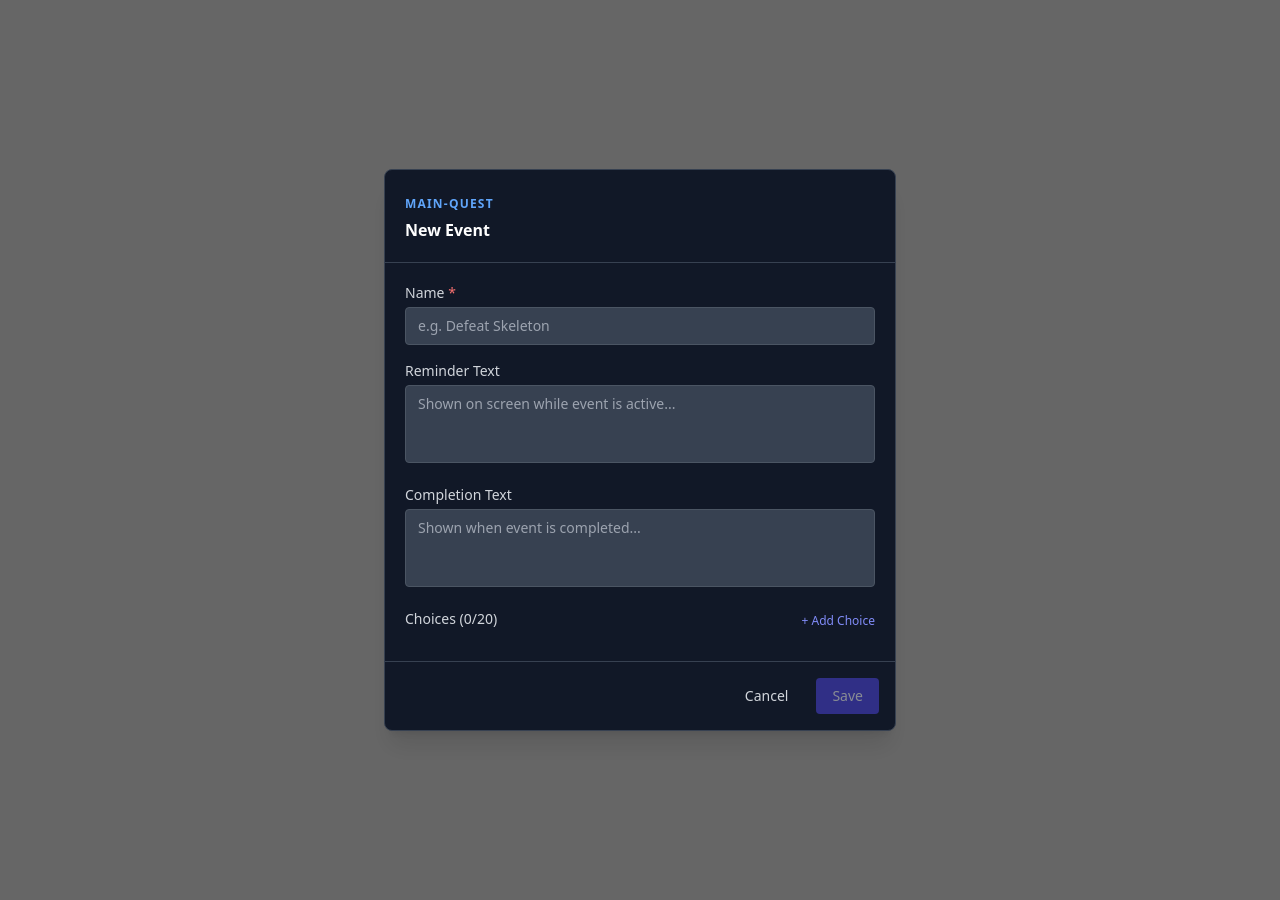
Test: EventDetailPopup › Save button is enabled when name is filled
This screenshot has width=1280, height=900.
In the field labelled "Name *": (640, 326) [405,307,875,345], type "Defeat Skeleton"
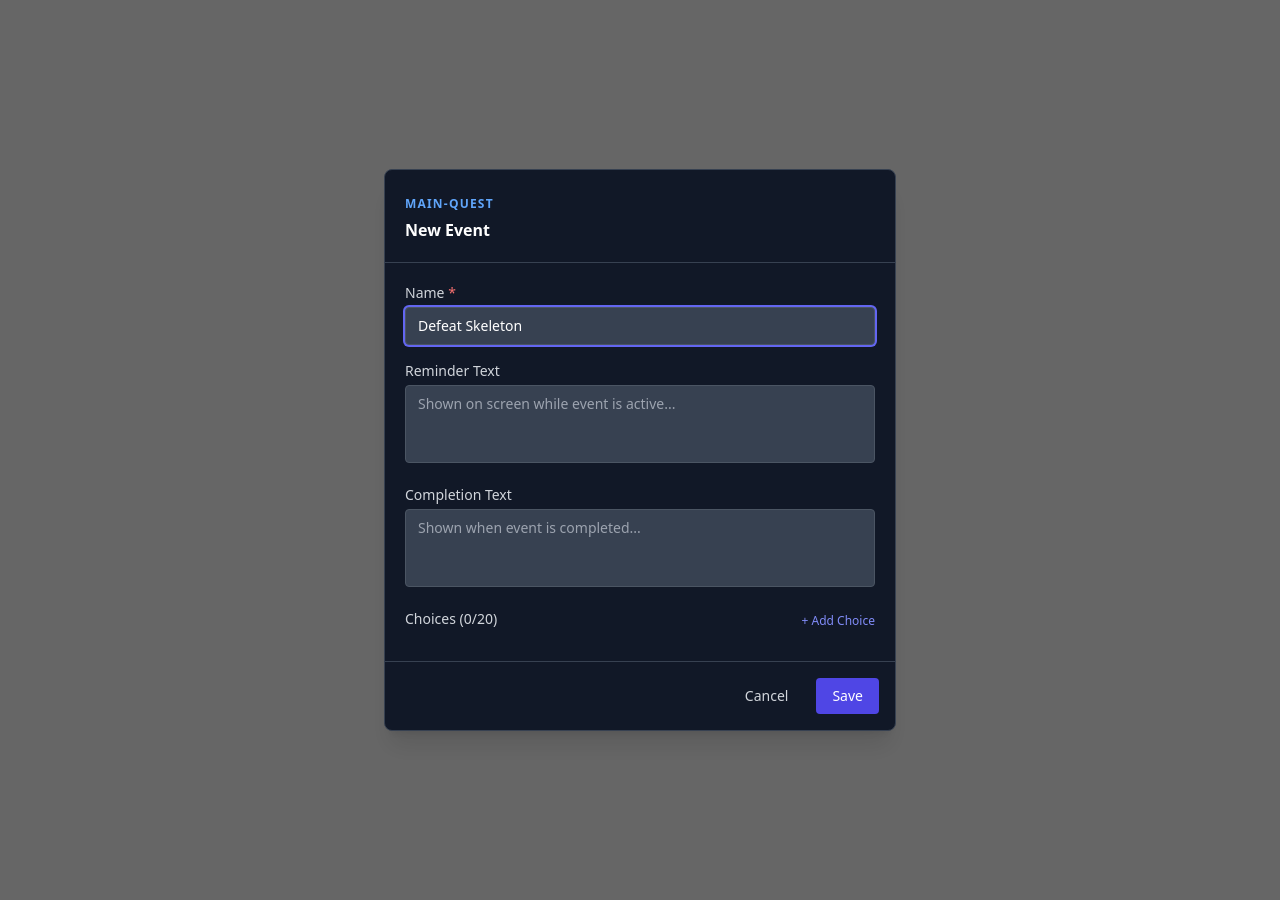
Result: the button "Save" is enabled at [816,678,879,714]
